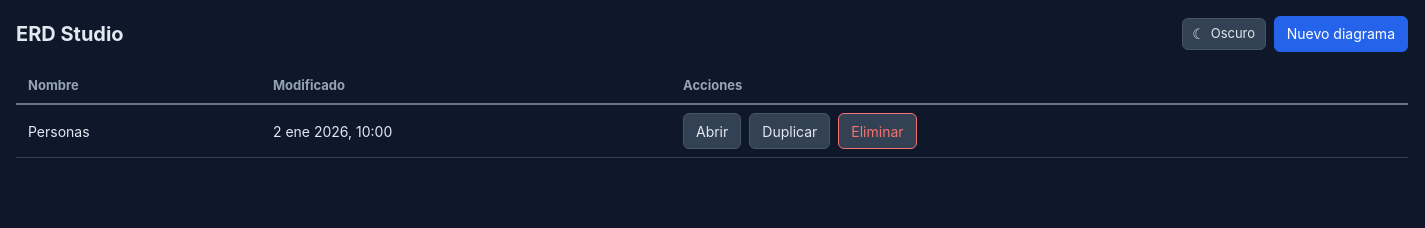
DashboardPage › duplica un diagrama y refresca la lista
Expected: the text "Personas" is shown, [28, 123, 90, 140]
Click the button "Duplicar". click: [790, 131]
box: [749, 113, 830, 149]
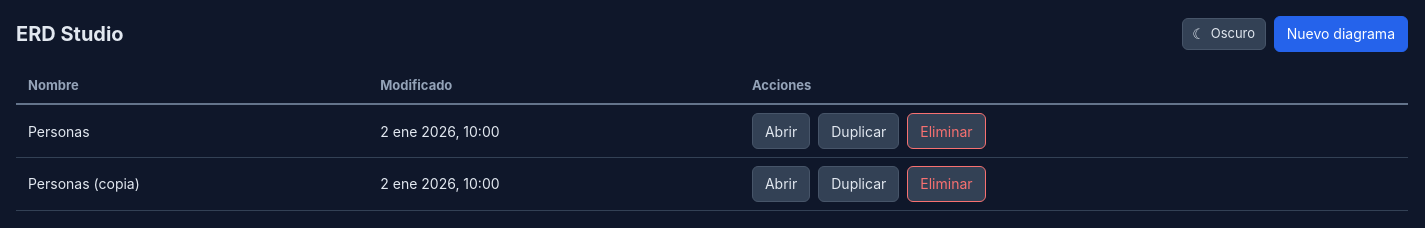
Expected: the text "Personas (copia)" is shown, [28, 176, 140, 192]
Expected: the number of rows is 3, [16, 68, 1408, 104]; [16, 105, 1408, 158]; [16, 158, 1408, 210]
